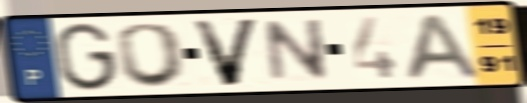4: (351, 14, 399, 82)
A: (401, 11, 486, 84)
G: (54, 21, 120, 94)
N: (262, 16, 332, 86)
O: (115, 20, 191, 90)
V: (188, 16, 264, 89)
